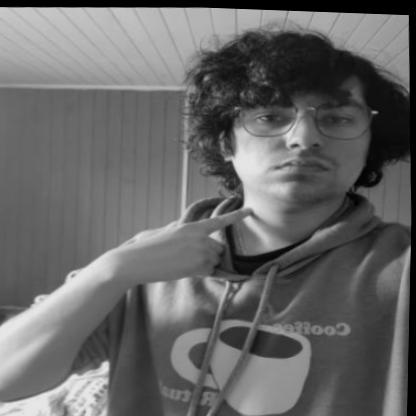Q: (121, 199, 259, 284)
